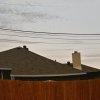Chimney: (65, 43, 90, 76)
